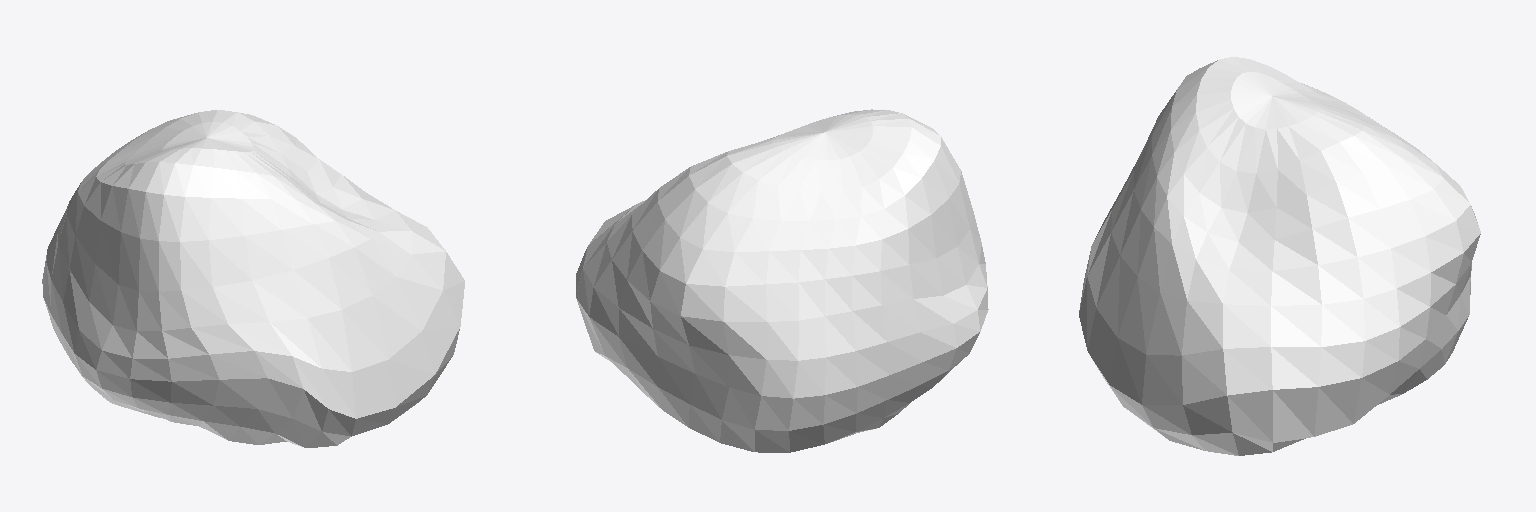
File: rock2.obj
3 renders of one model, left to right at view 1: azimuth 30°, elevation 25°; view 2: azimuth 150°, elevation 25°; view 3: azimuth 270°, elevation 25°, orthographic.
Visible parts, largest first — view 1: Sphere001; view 2: Sphere001; view 3: Sphere001.
Boxes of the visible parts, box(x1,y1,x2,y2) form: Sphere001: box(42, 110, 464, 447); Sphere001: box(576, 109, 988, 452); Sphere001: box(1079, 57, 1480, 455).
Size of the model in its own units: 34.32 by 25.05 by 32.12.